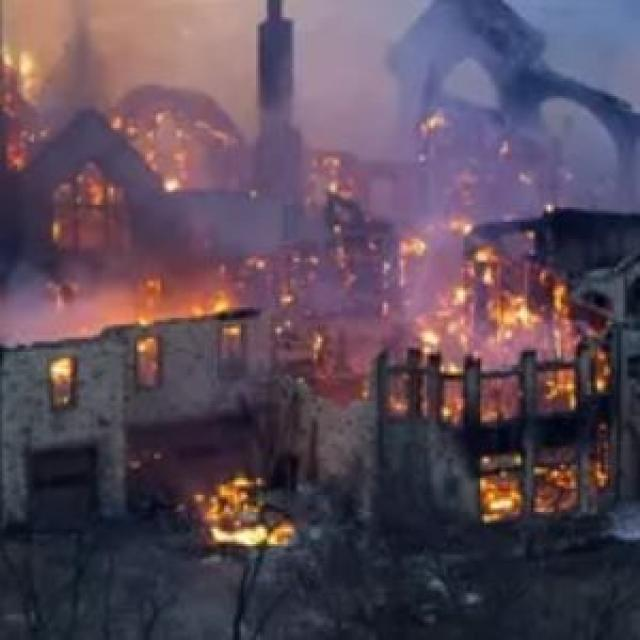Fire: (259, 205, 562, 424), (200, 472, 276, 538)
